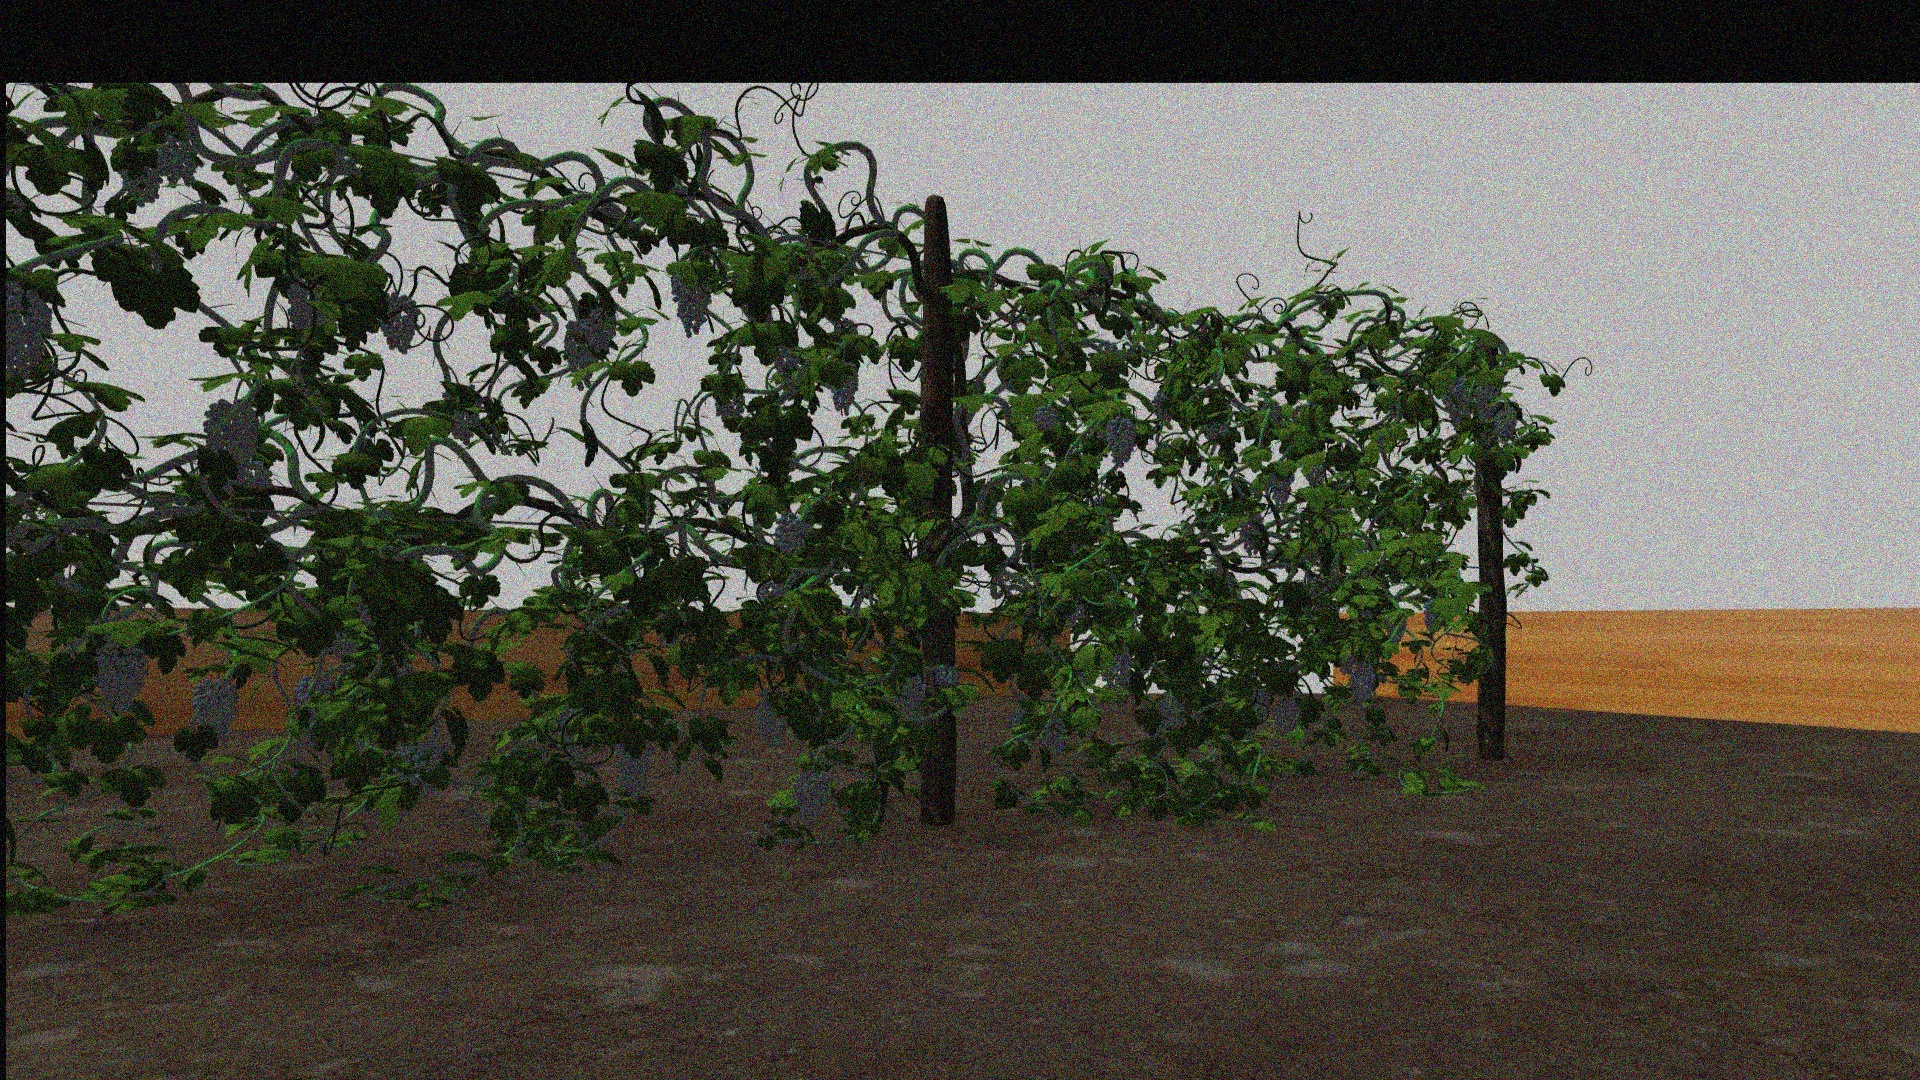grape: (200, 400, 258, 479), (8, 282, 51, 376), (94, 637, 148, 709), (191, 676, 240, 742), (284, 280, 334, 338), (378, 291, 419, 355), (615, 737, 654, 800), (673, 272, 709, 338), (562, 322, 599, 388), (794, 762, 829, 825), (754, 688, 793, 746), (156, 138, 198, 187), (119, 166, 164, 207), (396, 736, 440, 774), (1104, 413, 1135, 465), (1441, 377, 1470, 430), (831, 361, 860, 414), (774, 509, 807, 554), (582, 309, 616, 349), (1346, 659, 1377, 705), (895, 676, 926, 723), (1273, 694, 1302, 735), (1105, 645, 1130, 690), (1474, 380, 1501, 422), (1269, 467, 1295, 508), (1240, 513, 1265, 555), (1491, 407, 1519, 443), (1043, 717, 1067, 756), (1158, 696, 1183, 725), (1033, 405, 1058, 430), (934, 662, 959, 686), (1205, 419, 1226, 442)
